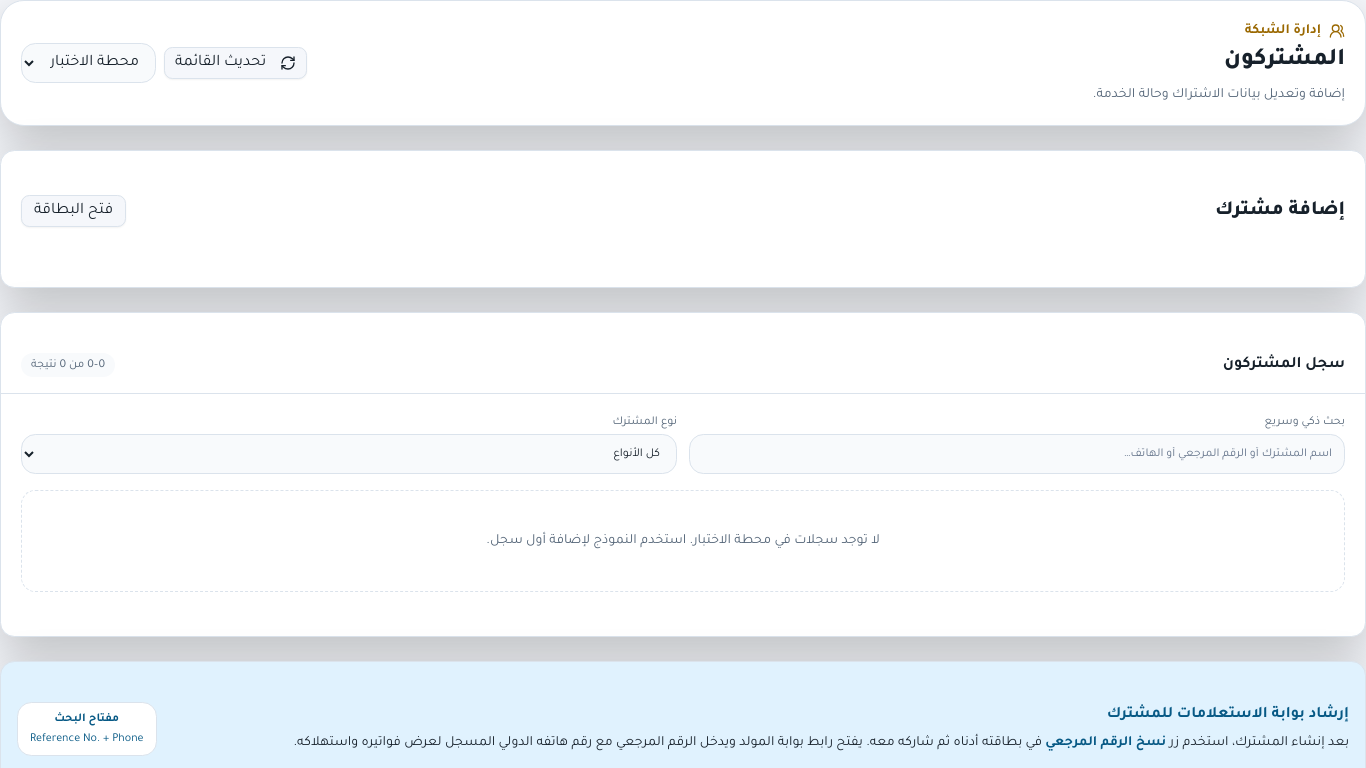
role guards in administration UI › collapses the add-subscriber card by default and opens it on request
The width and height of the screenshot is (1366, 768).
Expected: the button "إضافة المشترك" is not shown
Click the button "فتح البطاقة": (74, 211) [21,195,126,227]
(page scrolled)
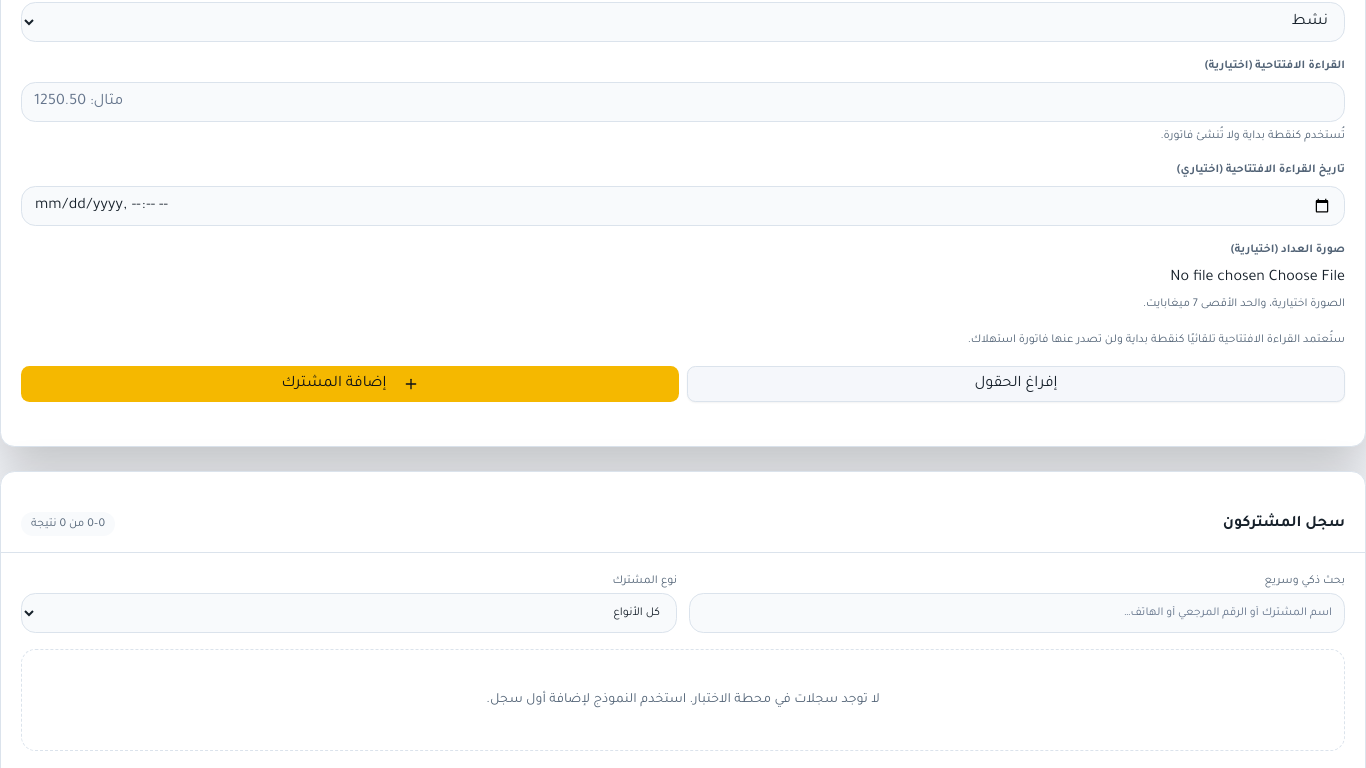
Expected: the button "إضافة المشترك" is shown, [21,366,679,402]
